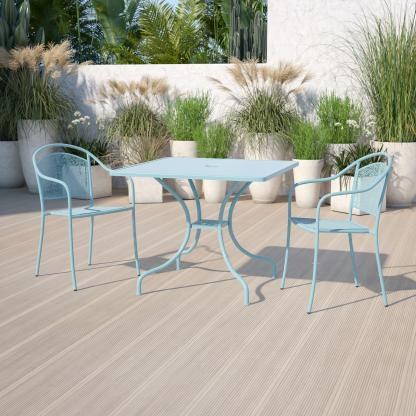table: (106, 152, 302, 308)
